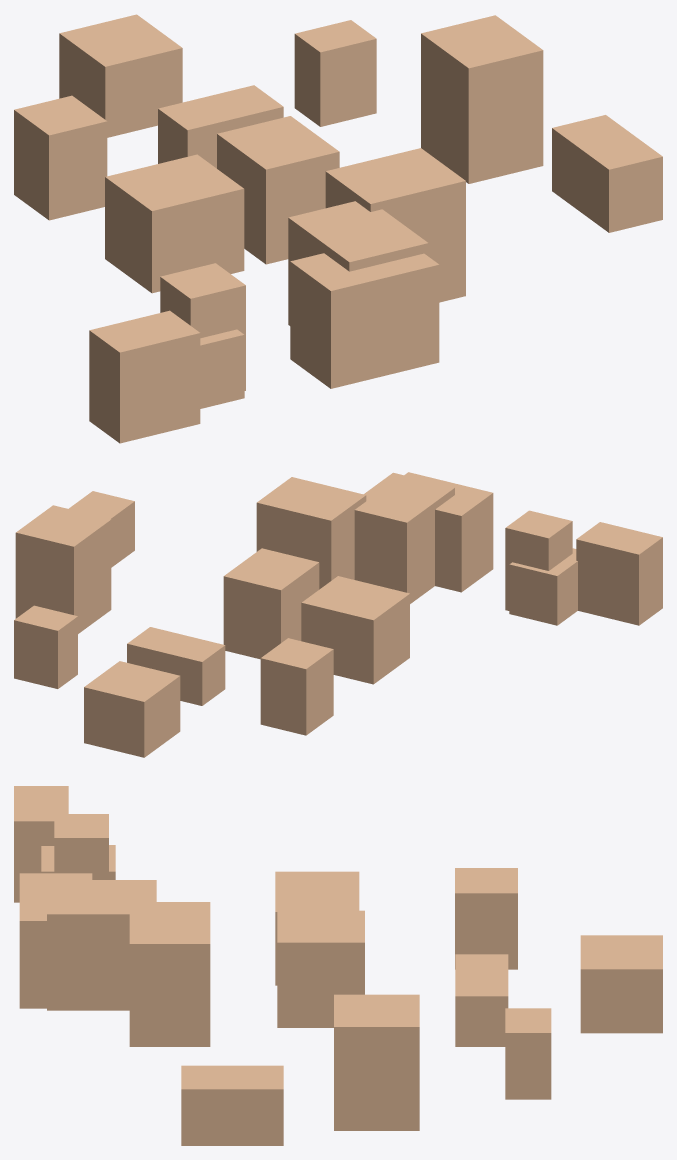
3 views of the same model, one above another, from view 1: azimuth 30°, elevation 25°; view 2: azimuth 150°, elevation 25°; view 3: azimuth 270°, elevation 25° (orthographic). The views are drawn at different scales.
Bounding box in the file's own units: 173 × 30.03 × 170.
